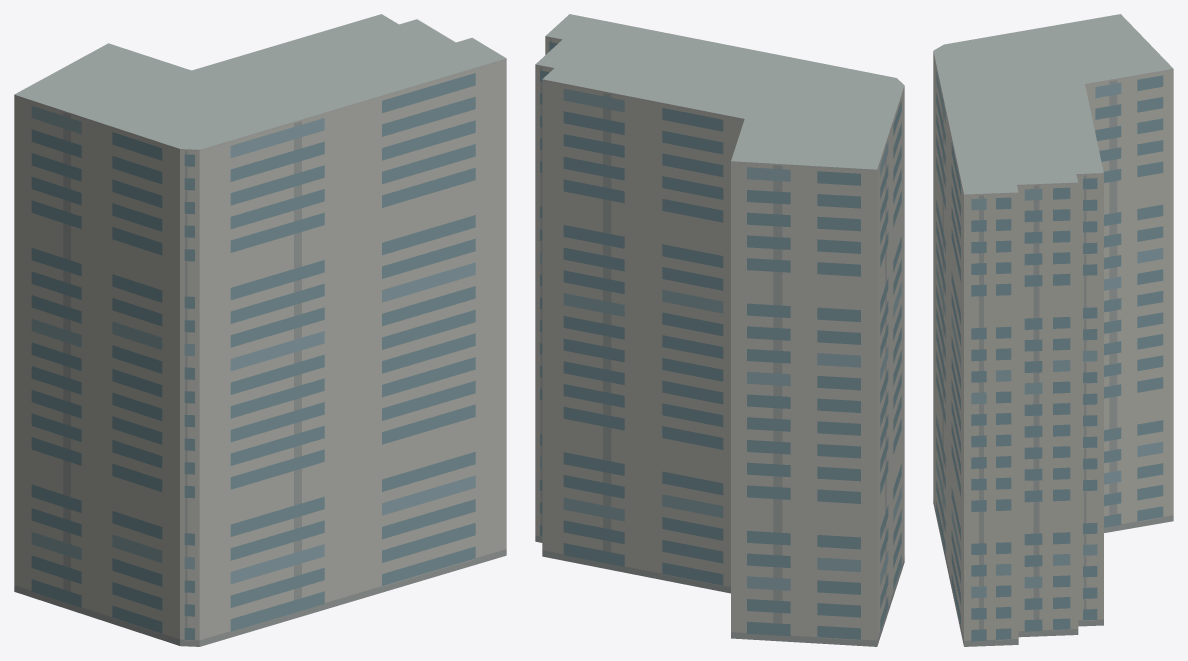
File: residential-092f3a25-538a-4539-b73a-b57e6519f179.glb
3 renders of one model, left to right at view 1: azimuth 30°, elevation 25°; view 2: azimuth 150°, elevation 25°; view 3: azimuth 270°, elevation 25°, orthographic. The views are drawn at different scales.
Visible parts, largest first — view 1: residential-092f3a25-538a-4539-b73a-b57e6519f179.tmp; view 2: residential-092f3a25-538a-4539-b73a-b57e6519f179.tmp; view 3: residential-092f3a25-538a-4539-b73a-b57e6519f179.tmp.
Boxes of the visible parts, x1,y1,x2,y2 form: residential-092f3a25-538a-4539-b73a-b57e6519f179.tmp: [14, 14, 506, 646]; residential-092f3a25-538a-4539-b73a-b57e6519f179.tmp: [535, 14, 904, 646]; residential-092f3a25-538a-4539-b73a-b57e6519f179.tmp: [933, 14, 1173, 646].
Size of the model in its own units: 58.2 by 68 by 32.74.
